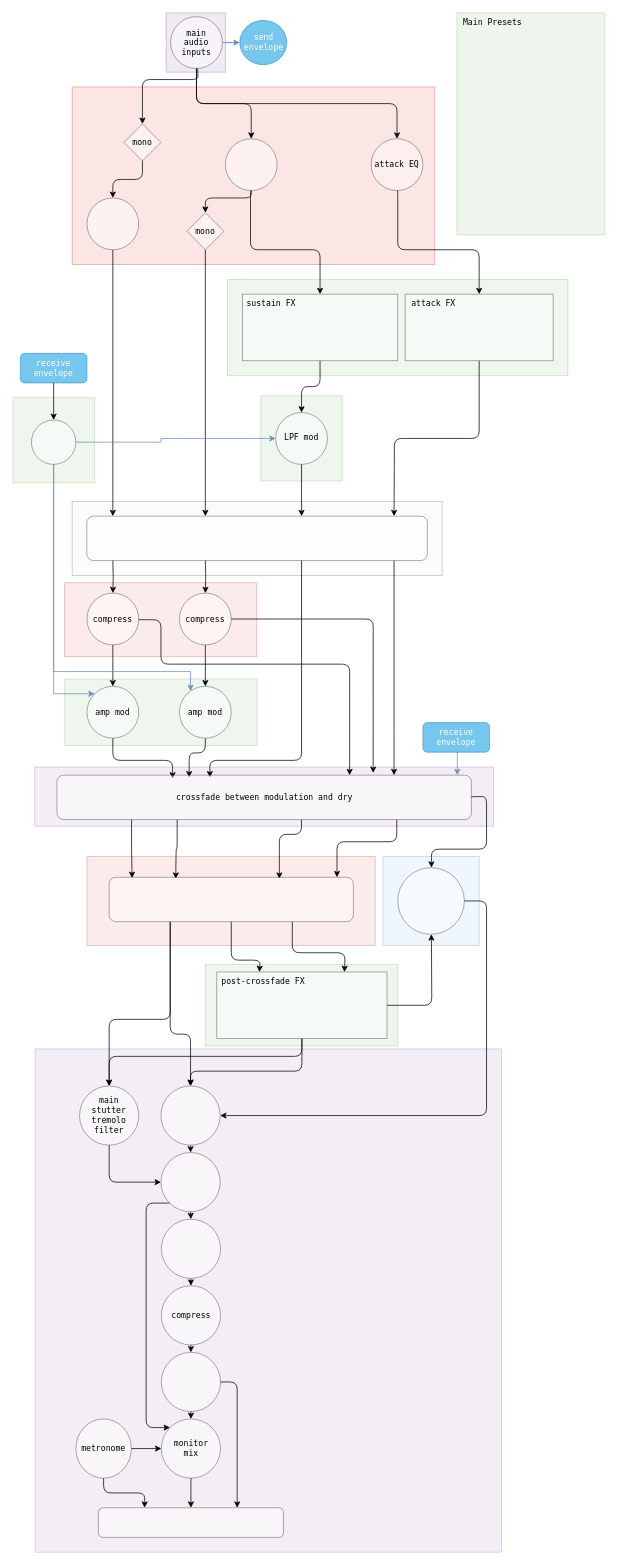
Some shapes in this 618 by 1565 pixel diagram are drawn without their labels. Each missing label, with the box of its shape:
crossover: (86, 515, 427, 561)
delay and reverb: (397, 867, 464, 934)
kick ducker: (160, 1152, 220, 1212)
LFOs: (31, 419, 76, 464)
limit: (161, 1352, 221, 1412)
looper stutter tremolo filter: (160, 1085, 220, 1145)
main audio outputs: (98, 1507, 283, 1537)
octaver: (86, 197, 139, 250)
reverb: (161, 1218, 221, 1278)
sustain EQ: (225, 138, 277, 191)
volume mute compress: (108, 877, 353, 922)
